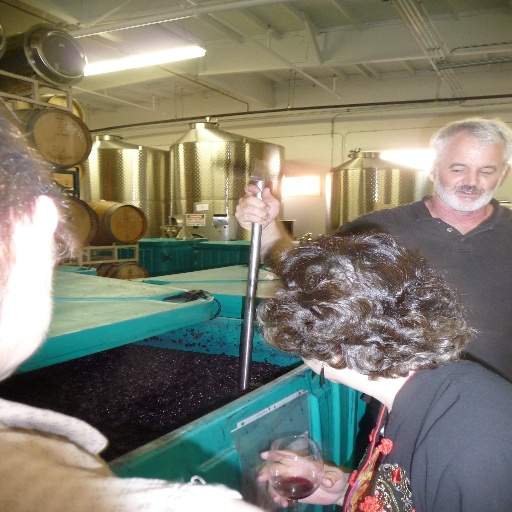hand: (257, 450, 347, 509), (233, 182, 280, 230)
